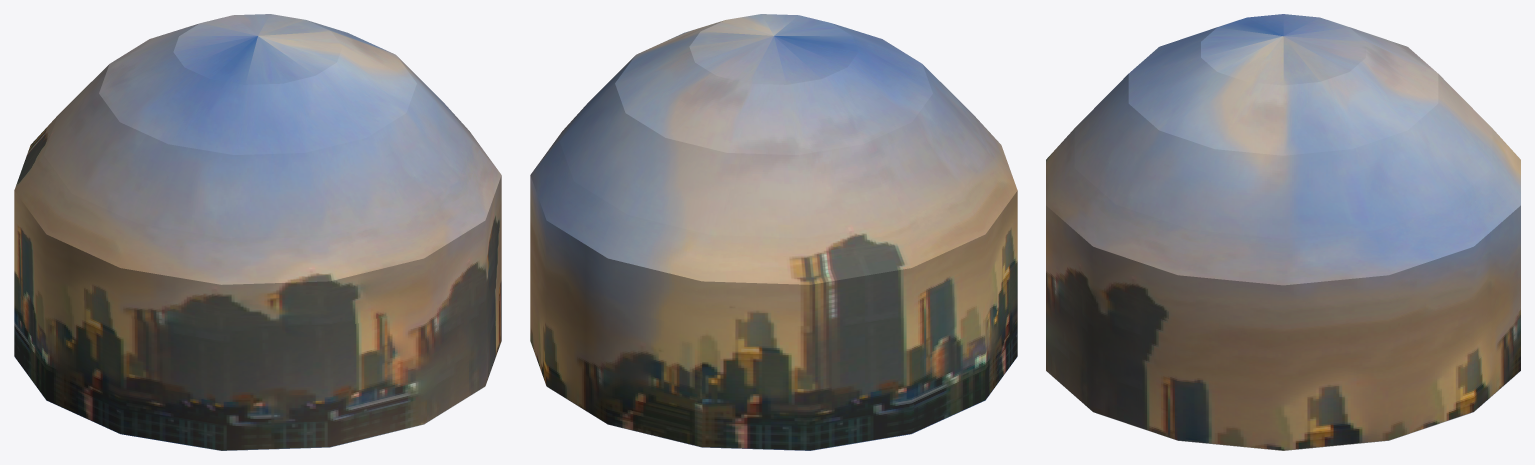
The model's file is SkyDome.fbx.
3 views of the same model, side by side, from view 1: azimuth 30°, elevation 25°; view 2: azimuth 150°, elevation 25°; view 3: azimuth 270°, elevation 25° (orthographic).
Visible parts, largest first — view 1: pSphere1; view 2: pSphere1; view 3: pSphere1.
Part boxes in pixels (x1=…): pSphere1: x1=14, y1=14, x2=501, y2=450; pSphere1: x1=530, y1=14, x2=1017, y2=450; pSphere1: x1=1046, y1=14, x2=1520, y2=450.
Size of the model in its own units: 68.19 by 48.19 by 66.48.
Materials: 1 (1 with a texture image).
